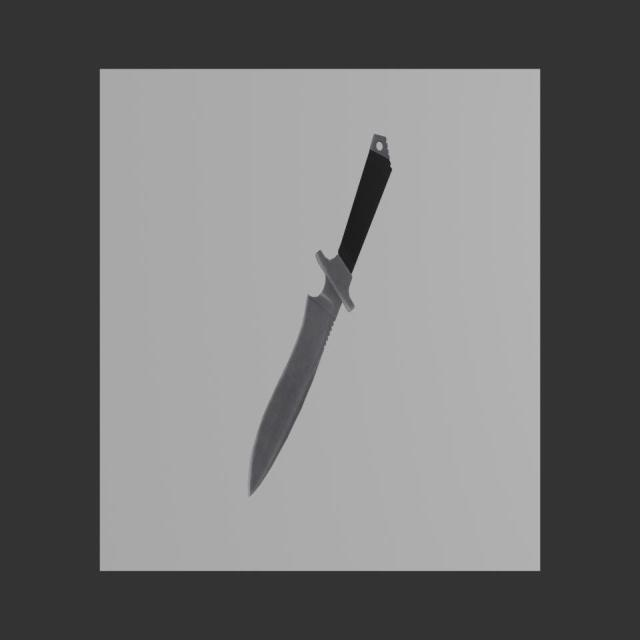knife: (338, 134, 392, 274)
